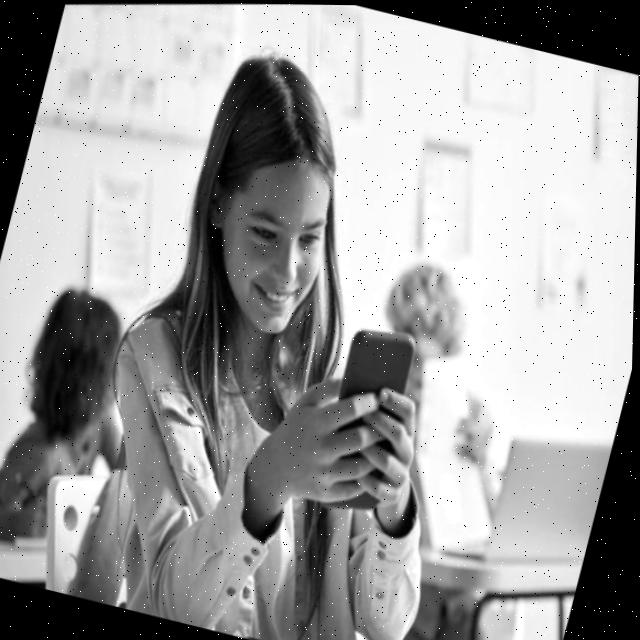phone: (277, 303, 460, 531)
